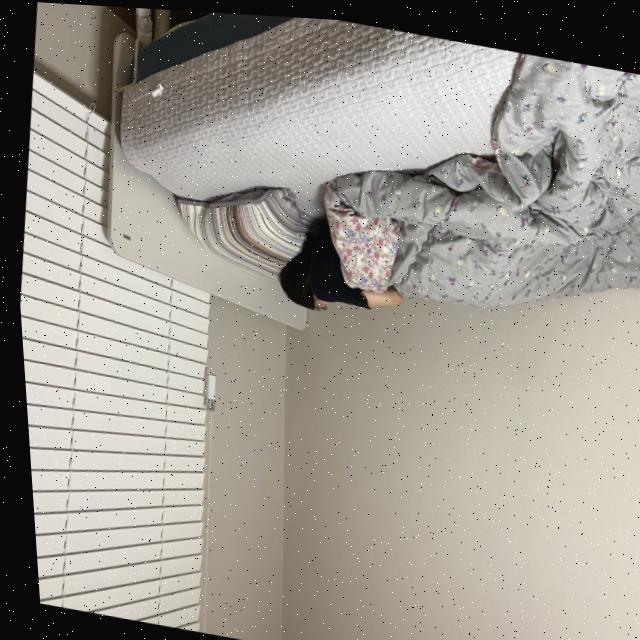sleeping-person: (242, 57, 640, 391)
